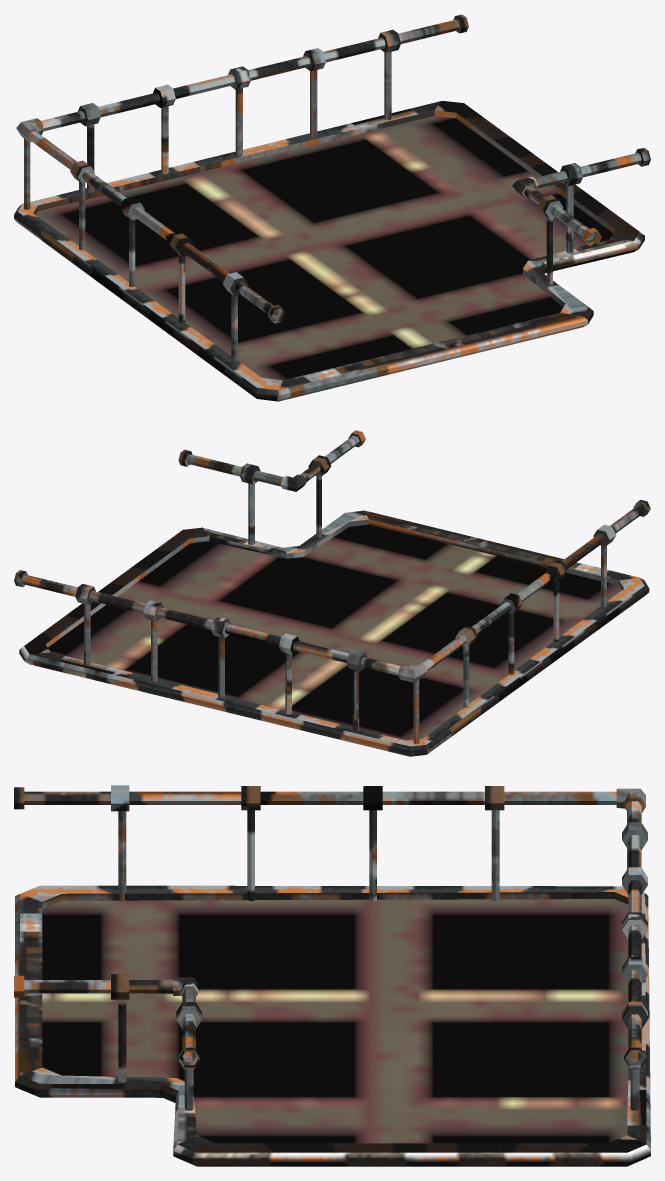
The model's file is Corner Walkway.fbx.
3 renders of one model, top to bottom at view 1: azimuth 30°, elevation 25°; view 2: azimuth 150°, elevation 25°; view 3: azimuth 270°, elevation 25°, orthographic. The views are drawn at different scales.
Parts seen in each view (by area): view 1: Corner Walkway; view 2: Corner Walkway; view 3: Corner Walkway.
Boxes of the visible parts, <box> form: Corner Walkway: <box>14,14,650,401</box>; Corner Walkway: <box>14,430,650,756</box>; Corner Walkway: <box>14,785,650,1166</box>.
Bounding box in the file's own units: 403 × 81.82 × 400.
